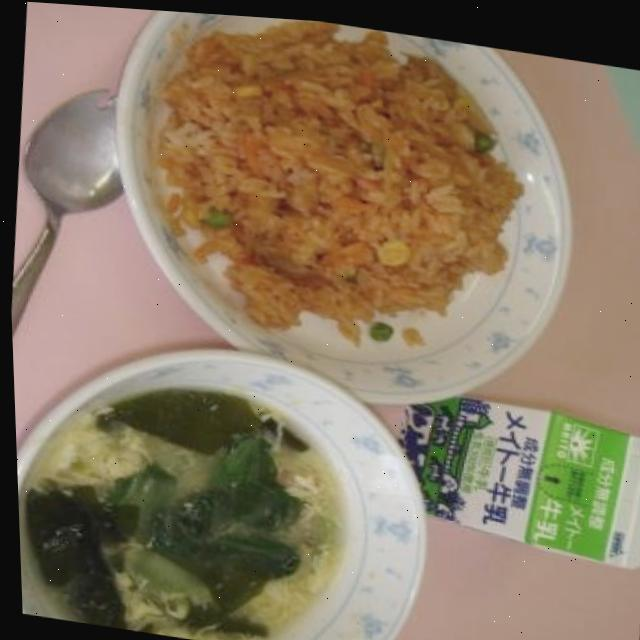汤锅炖物: (11, 307, 444, 640)
